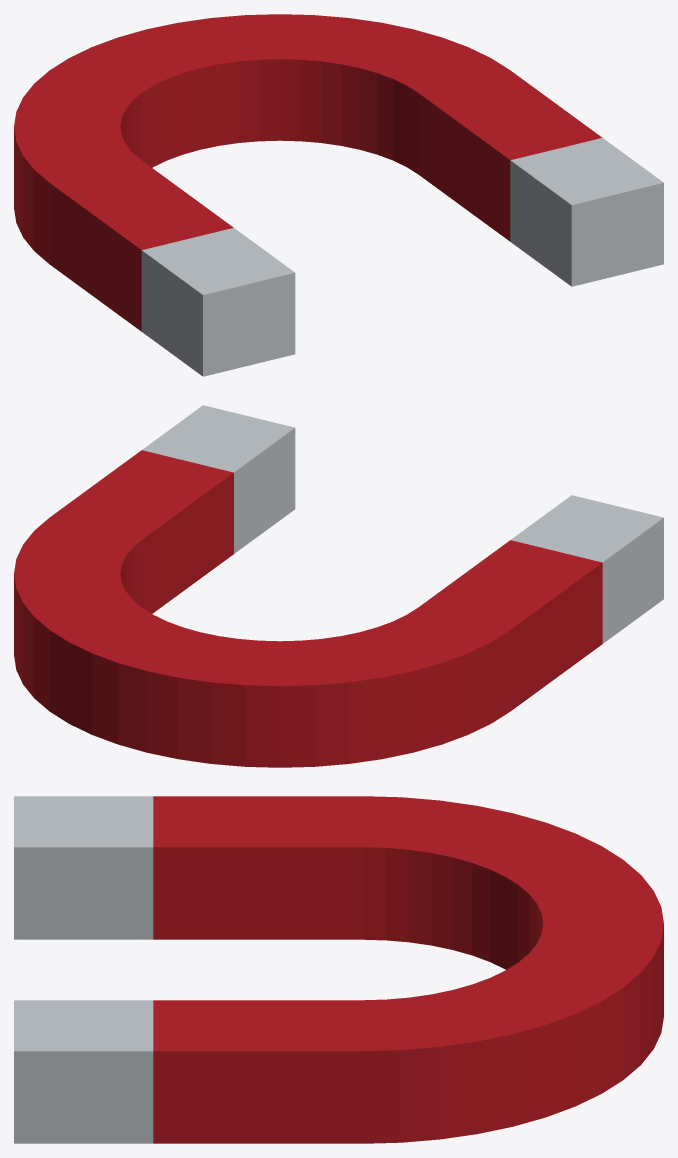
Rendered from NEW_RECOVERY_037_LOD2.glb.
3 views of the same model, one above another, from view 1: azimuth 30°, elevation 25°; view 2: azimuth 150°, elevation 25°; view 3: azimuth 270°, elevation 25° (orthographic). The views are drawn at different scales.
Visible parts, largest first — view 1: Horseshoe Magnet; view 2: Horseshoe Magnet; view 3: Horseshoe Magnet.
Boxes of the visible parts, left/top/right/bottom form: Horseshoe Magnet: left=14, top=14, right=663, bottom=376; Horseshoe Magnet: left=14, top=405, right=663, bottom=767; Horseshoe Magnet: left=14, top=796, right=663, bottom=1143.
Bounding box in the file's own units: 2.6 × 0.44 × 2.8.
